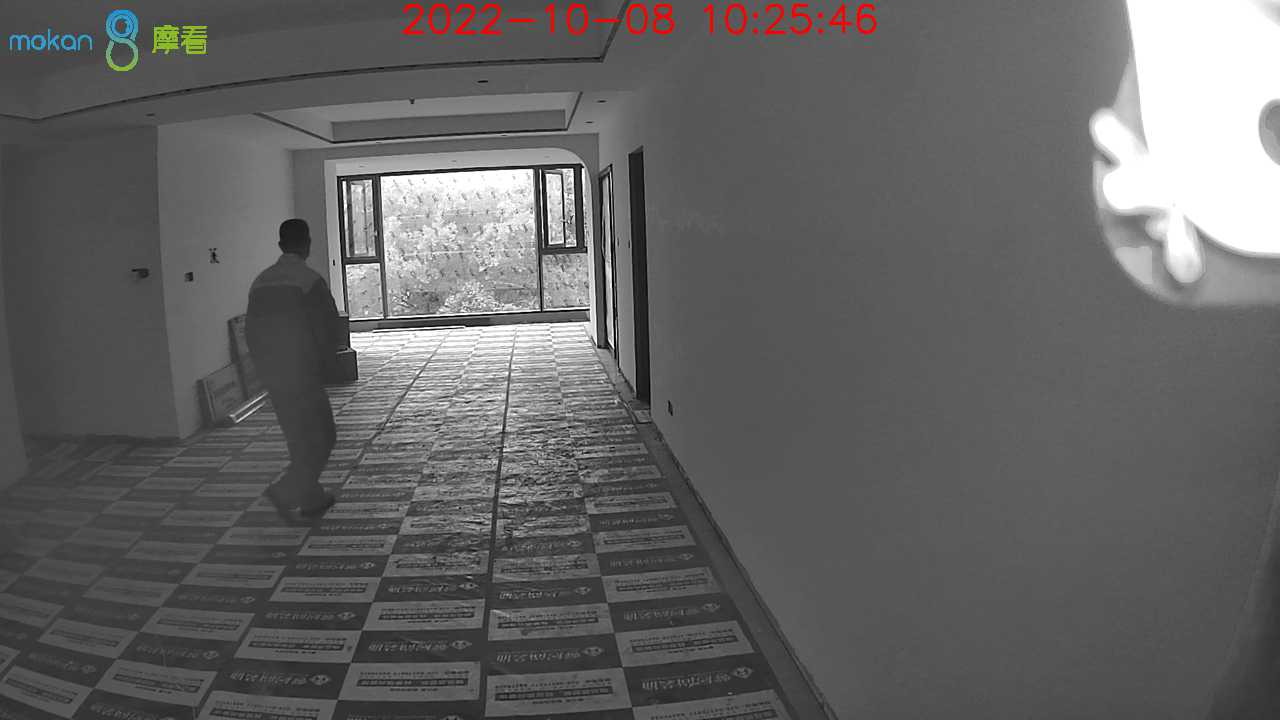people: (247, 219, 348, 521)
window: (338, 165, 588, 317)
